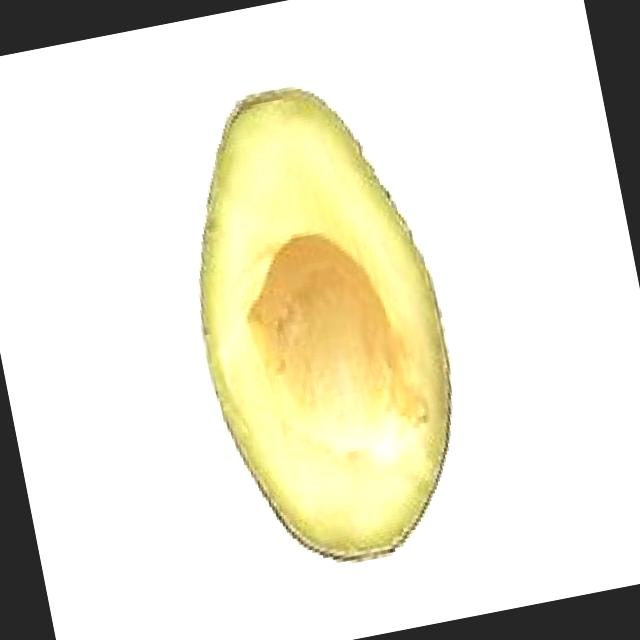avocado: (147, 50, 490, 594)
